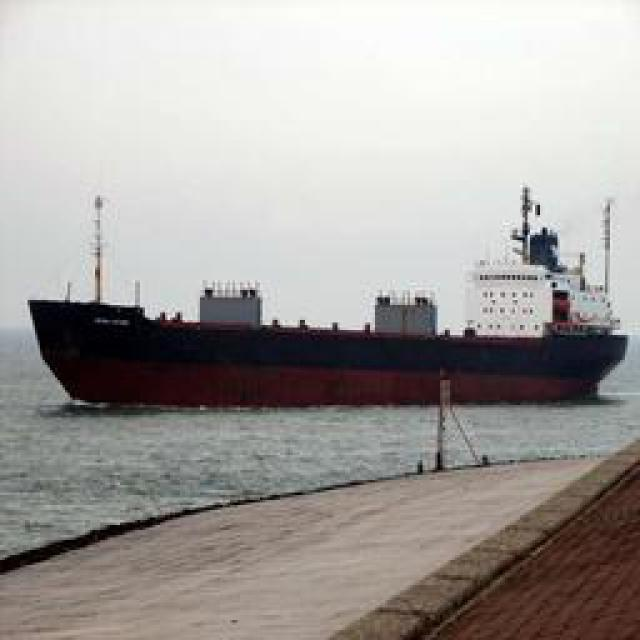Ship: (41, 180, 629, 413)
